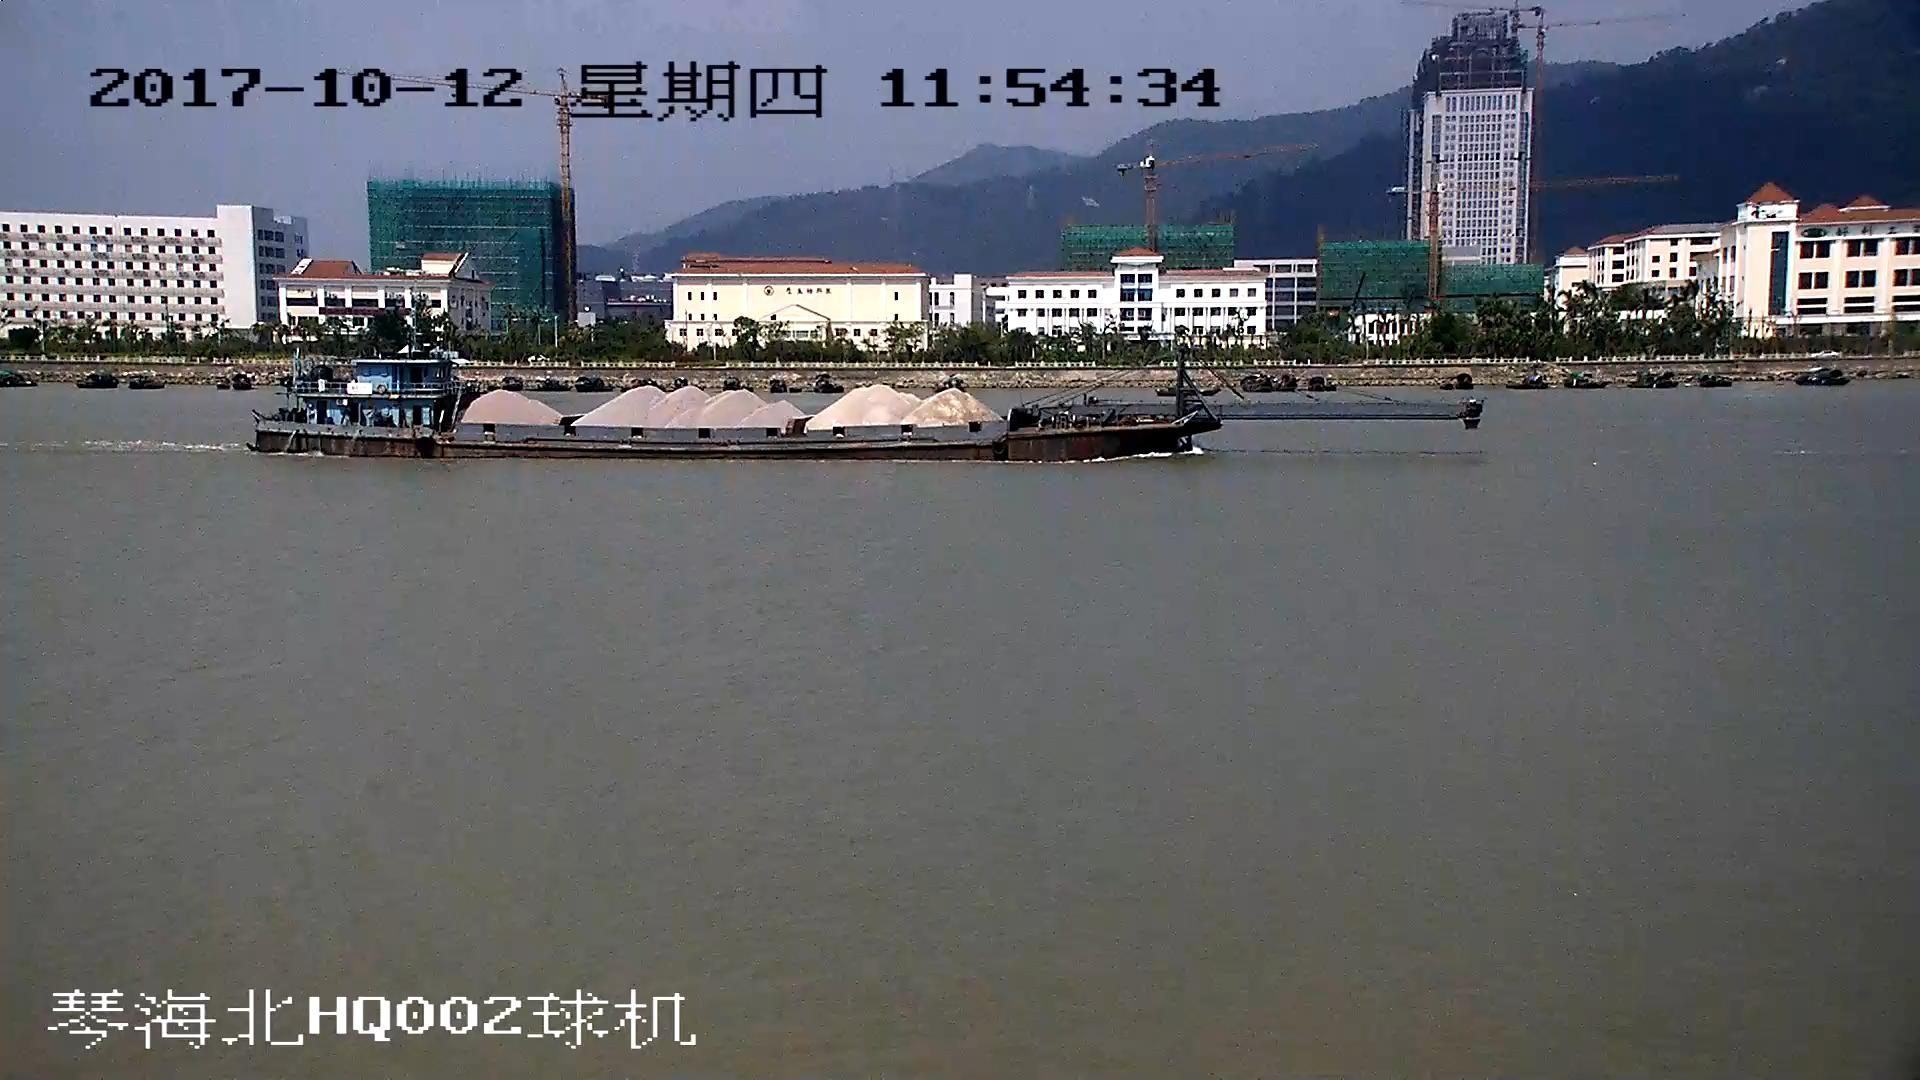ore carrier: (256, 337, 1483, 461)
